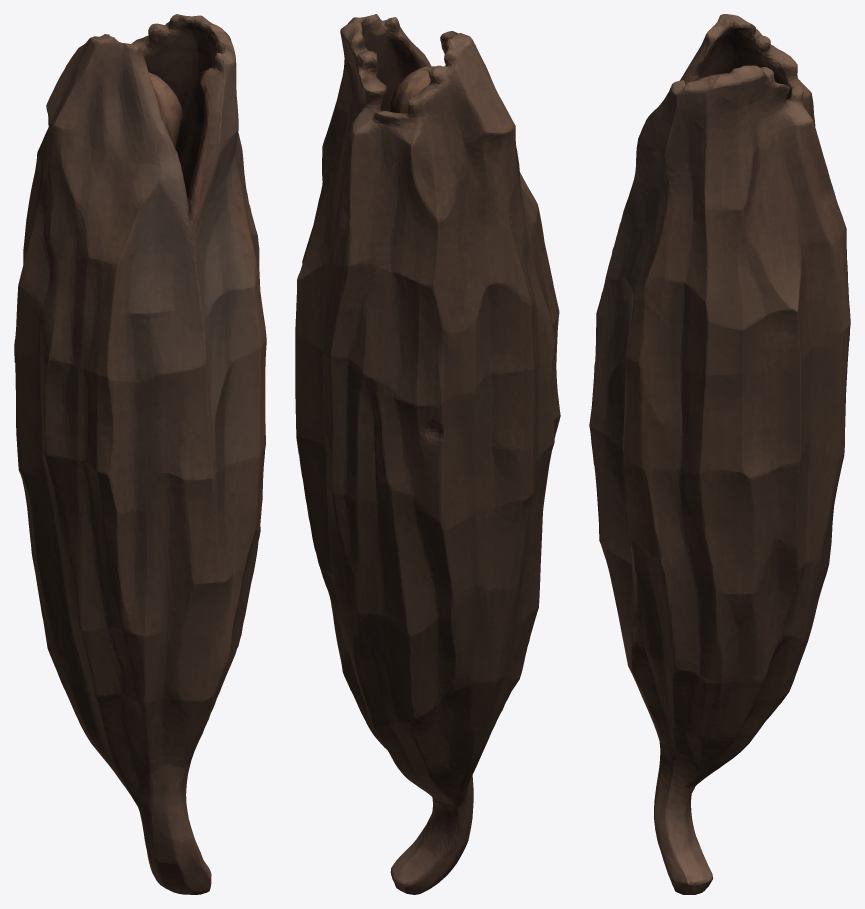
3 renders of one model, left to right at view 1: azimuth 30°, elevation 25°; view 2: azimuth 150°, elevation 25°; view 3: azimuth 270°, elevation 25°, orthographic. The views are drawn at different scales.
Visible parts, largest first — view 1: world; view 2: world; view 3: world.
Part boxes in pixels (left/top/right/bottom): world: left=14, top=14, right=266, bottom=894; world: left=295, top=14, right=560, bottom=894; world: left=589, top=14, right=850, bottom=894.
Bounding box in the file's own units: 0.2769 × 0.9991 × 0.2816.
Materials: 1 (1 with a texture image).
